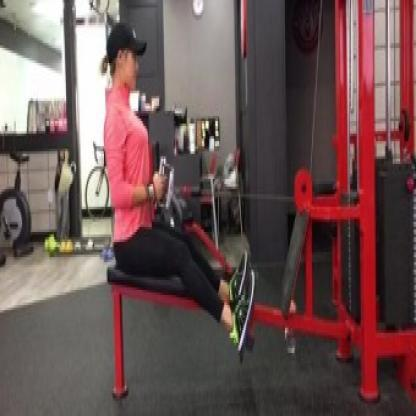Seated Cable Rows: (90, 0, 416, 406)
